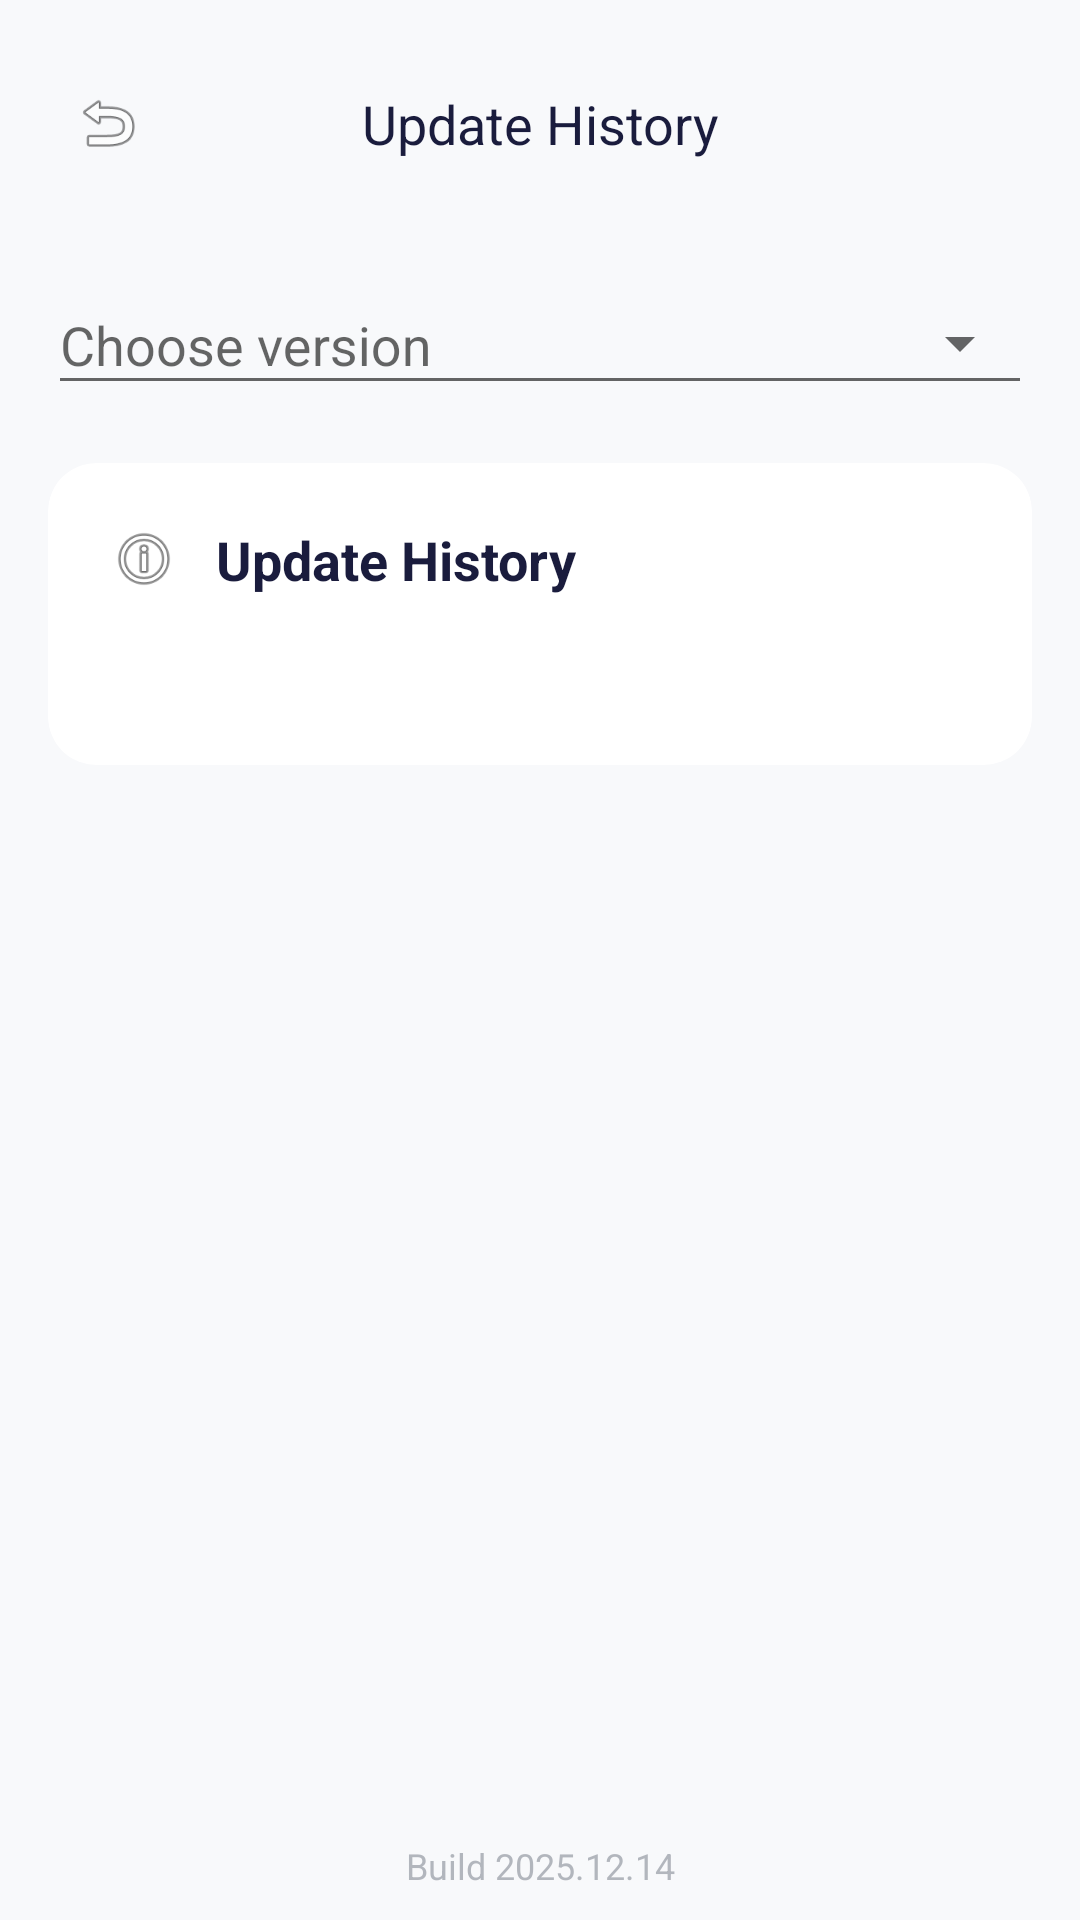

Screen size 1080x1920. Icon name, then its center in pixels as (x,y):
info details: (144,559)
revert: (109,123)
